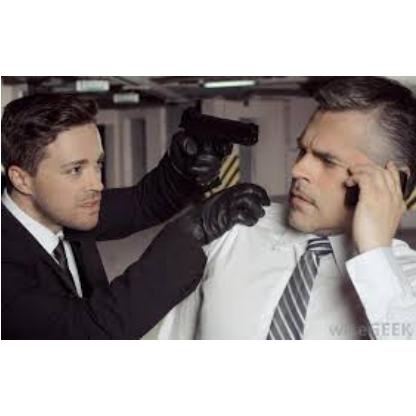gun: (173, 107, 257, 181)
